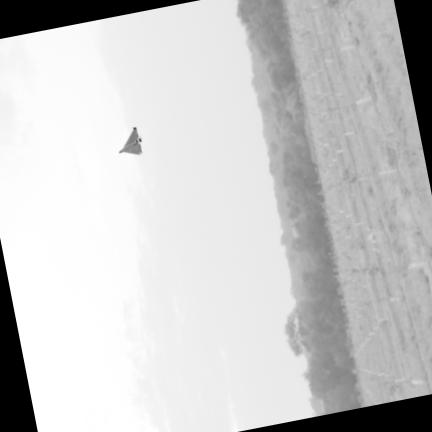Shahed: (120, 127, 142, 154)
